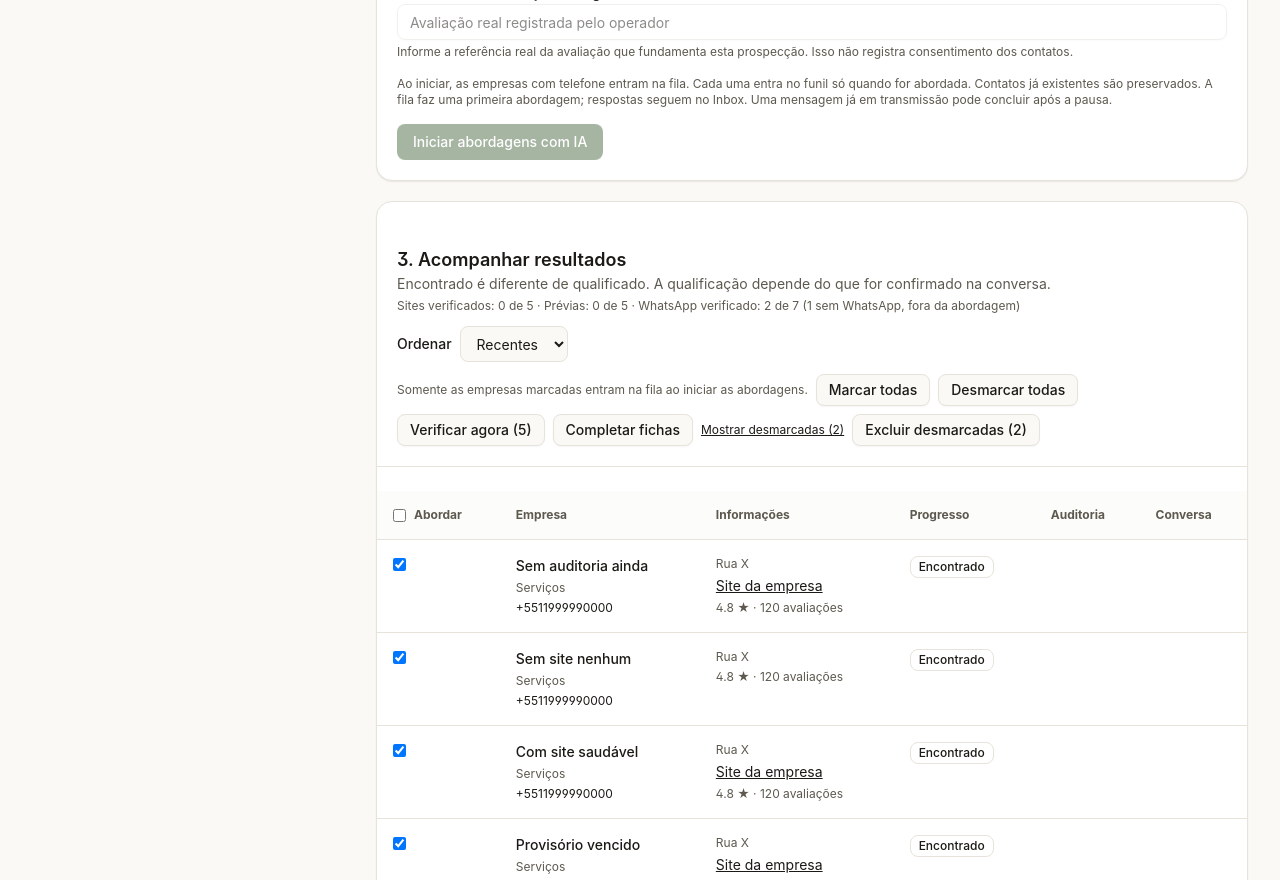
WhatsApp conferido antes da abordagem (lib/prospecting/whatsapp.ts) › quem não tem WhatsApp aparece só nas desmarcadas, com o motivo, e sem caixa para marcar de volta
(page scrolled)
Expected: the text "WhatsApp verificado:" is shown, [638,298,761,313]
Expected: the row "Fixo sem zap" is not shown
Click the button "Mostrar desmarcadas (2)": (773, 430) [701,422,844,438]
(page scrolled)
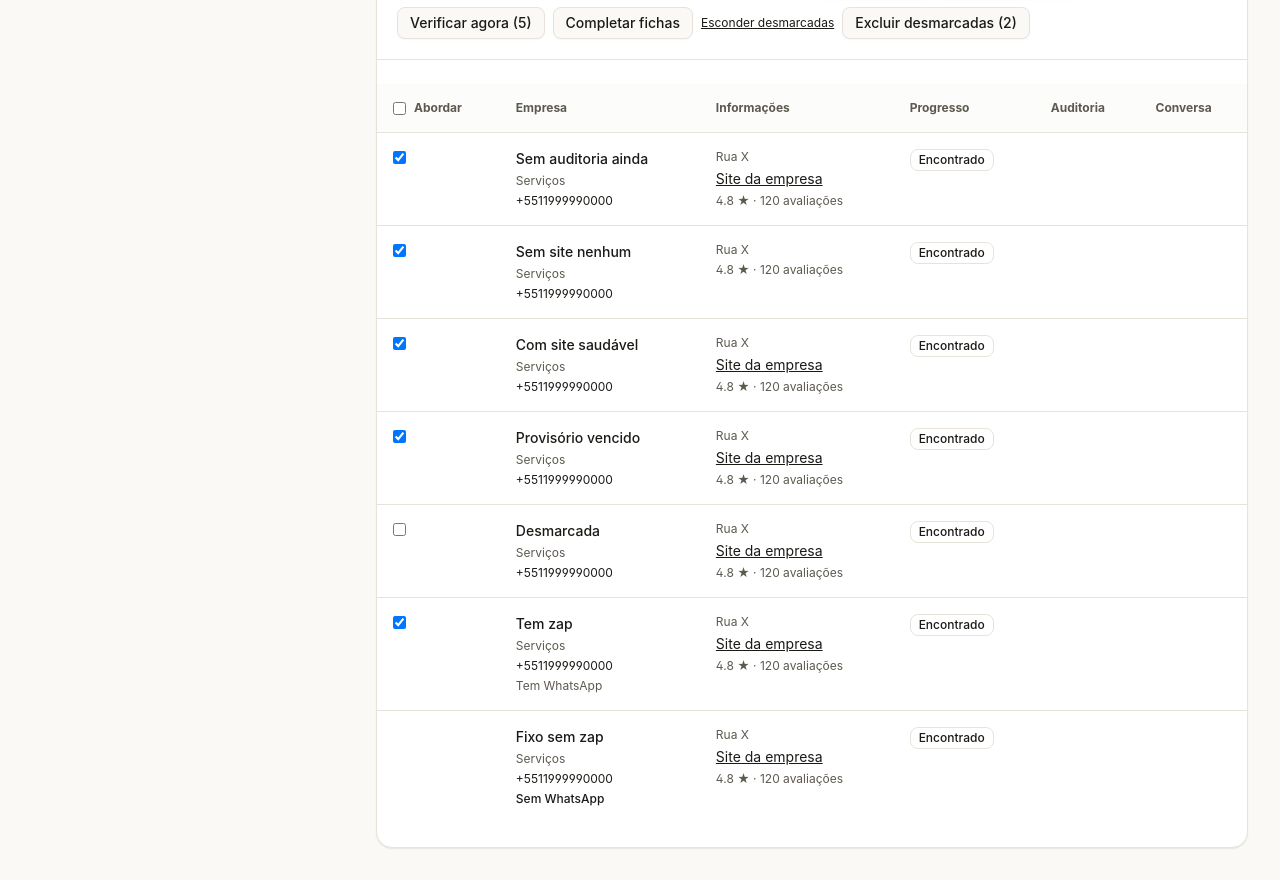
Now the text "Sem WhatsApp" is shown, box [516,791,604,806]
Now the 5th checkbox named "Marcar empresa para abordagem" is shown, box [393,523,406,536]
